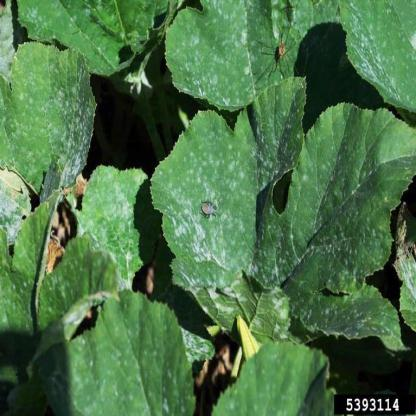squash powdery mildew leaf: (275, 100, 415, 332), (145, 99, 289, 319), (14, 35, 99, 197), (170, 1, 281, 115), (77, 158, 159, 287)
